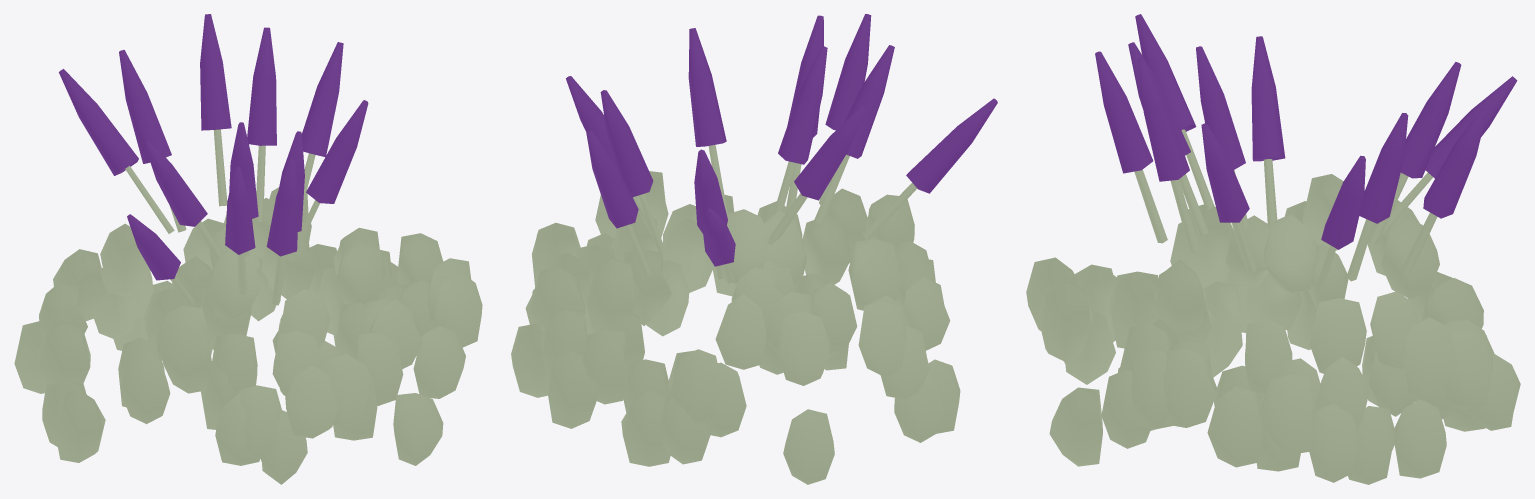
Rendered from Blender_Leadplant_1.glb.
The picture shows the model from 3 angles, left to right: view 1: azimuth 30°, elevation 25°; view 2: azimuth 150°, elevation 25°; view 3: azimuth 270°, elevation 25°; orthographic projection. The views are drawn at different scales.
Visible parts, largest first — view 1: Blender_Leadplant_1; view 2: Blender_Leadplant_1; view 3: Blender_Leadplant_1.
Boxes of the visible parts, bbox=[...] form: Blender_Leadplant_1: bbox=[14, 14, 482, 484]; Blender_Leadplant_1: bbox=[511, 14, 997, 484]; Blender_Leadplant_1: bbox=[1026, 14, 1520, 484].
Bounding box in the file's own units: 0.9231 × 0.7333 × 0.9059.
